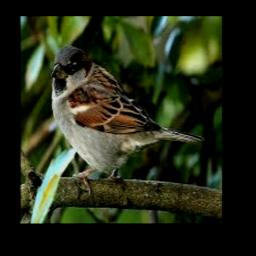Sparrow: (52, 45, 205, 193)
